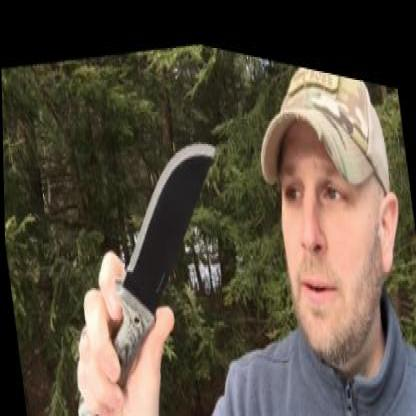knife: (70, 94, 245, 396)
